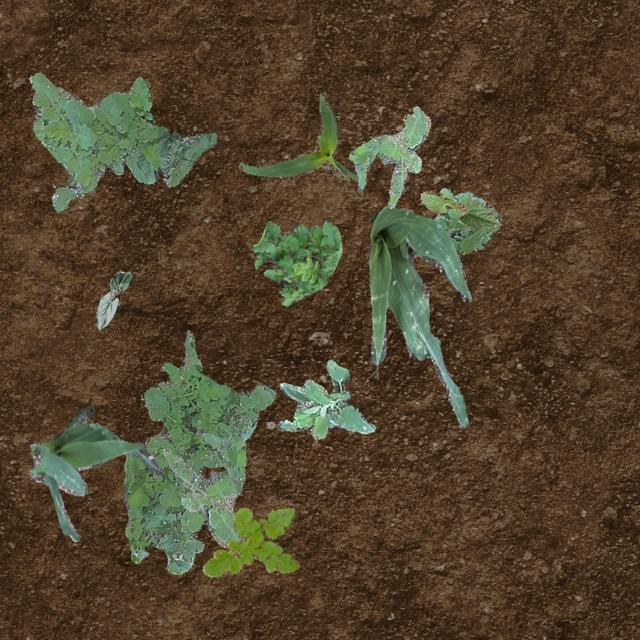crop: (368, 205, 470, 428), (28, 404, 162, 540), (238, 90, 358, 180), (418, 190, 498, 228), (95, 270, 132, 328)
weed: (123, 330, 274, 574), (28, 72, 216, 210), (162, 428, 245, 546), (348, 106, 430, 206), (250, 220, 342, 304), (278, 358, 374, 438), (202, 506, 298, 576), (432, 186, 502, 254)
